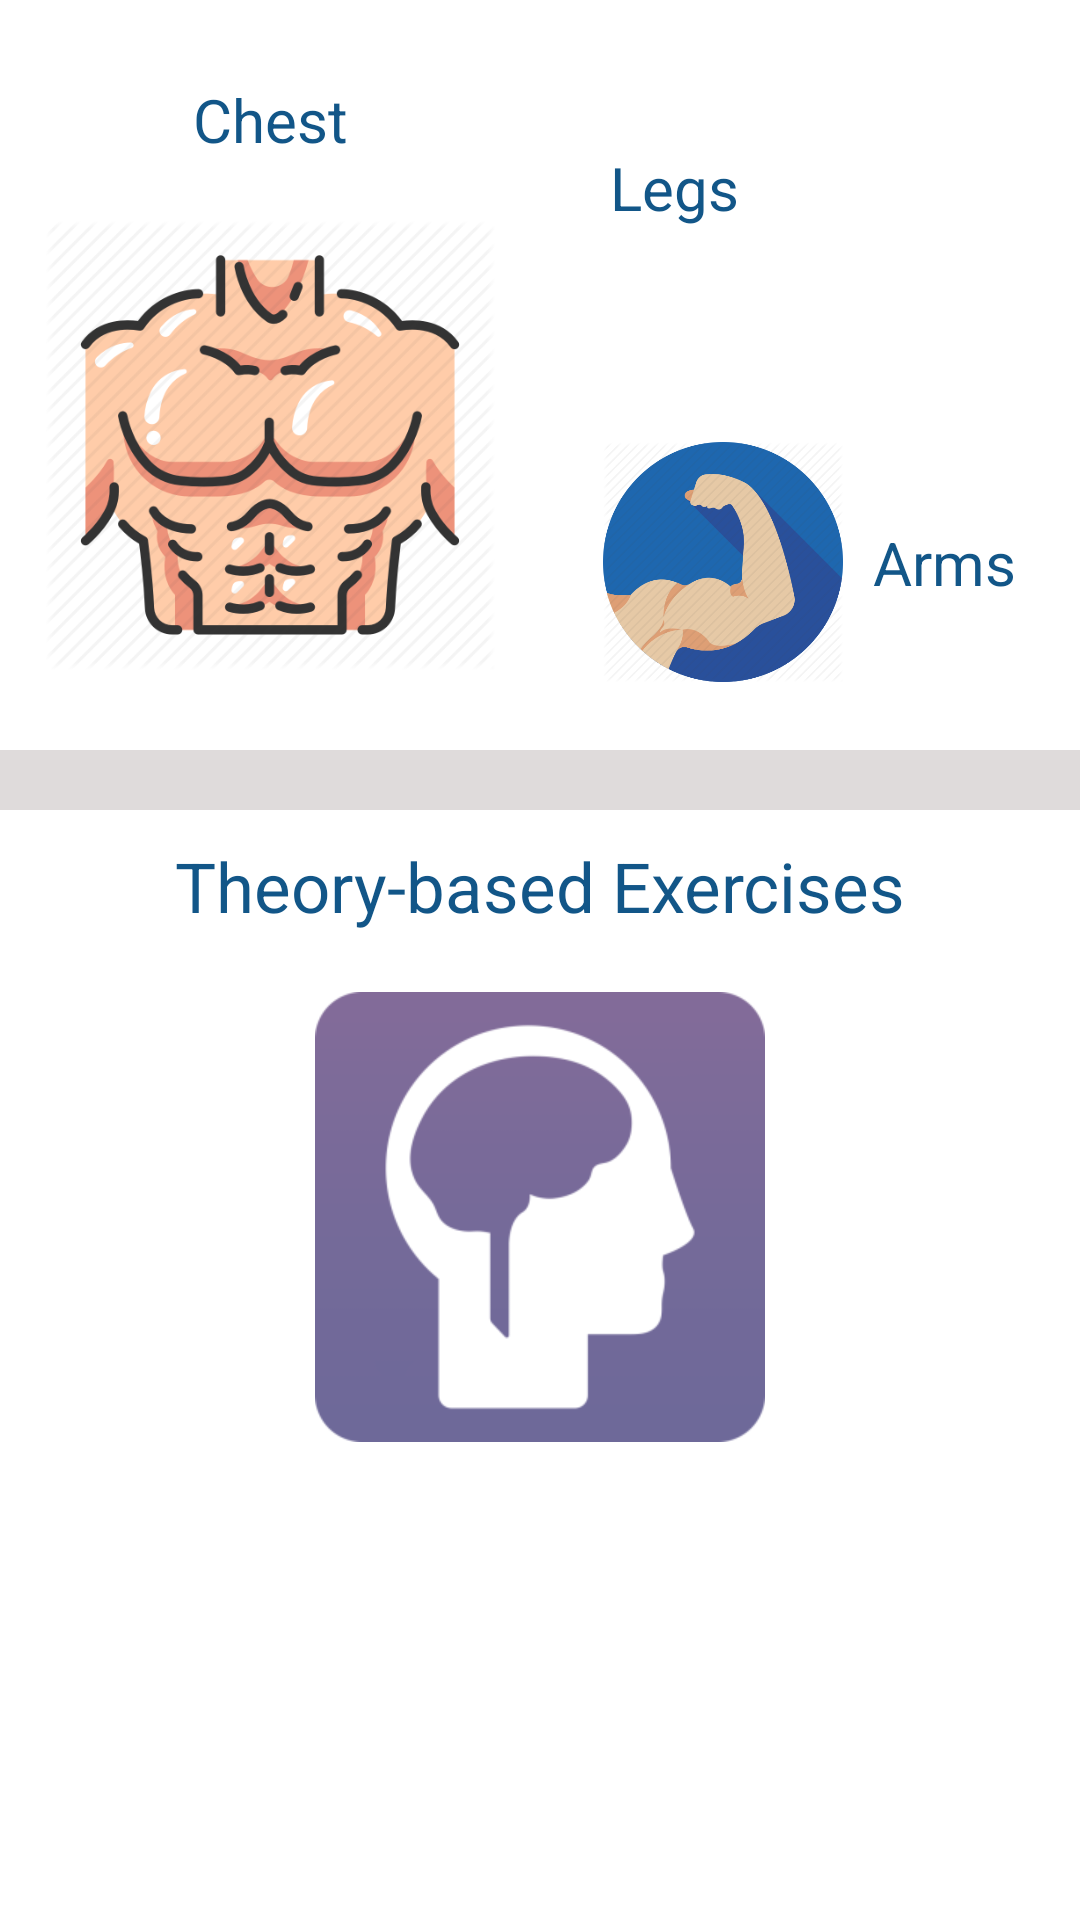

Screen size 1080 × 1920. Icon name, then its box in pixels as (x1, y1, x2, y2):
biceps: (603, 442, 843, 682)
